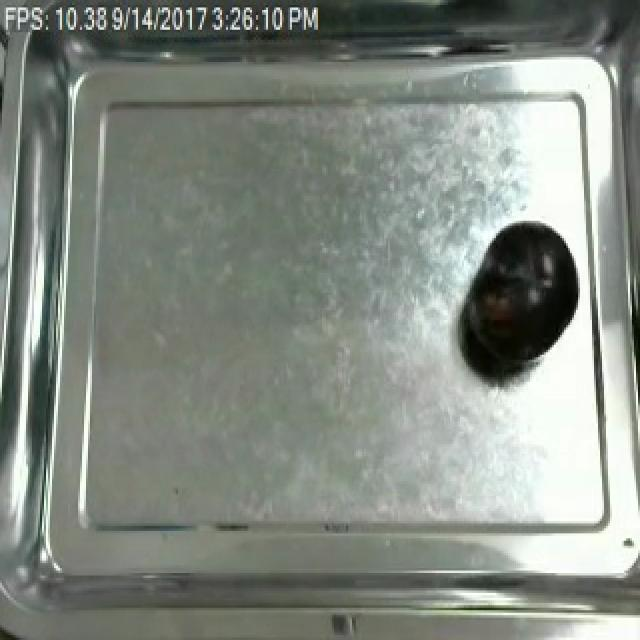Fruit: (458, 216, 590, 379)
